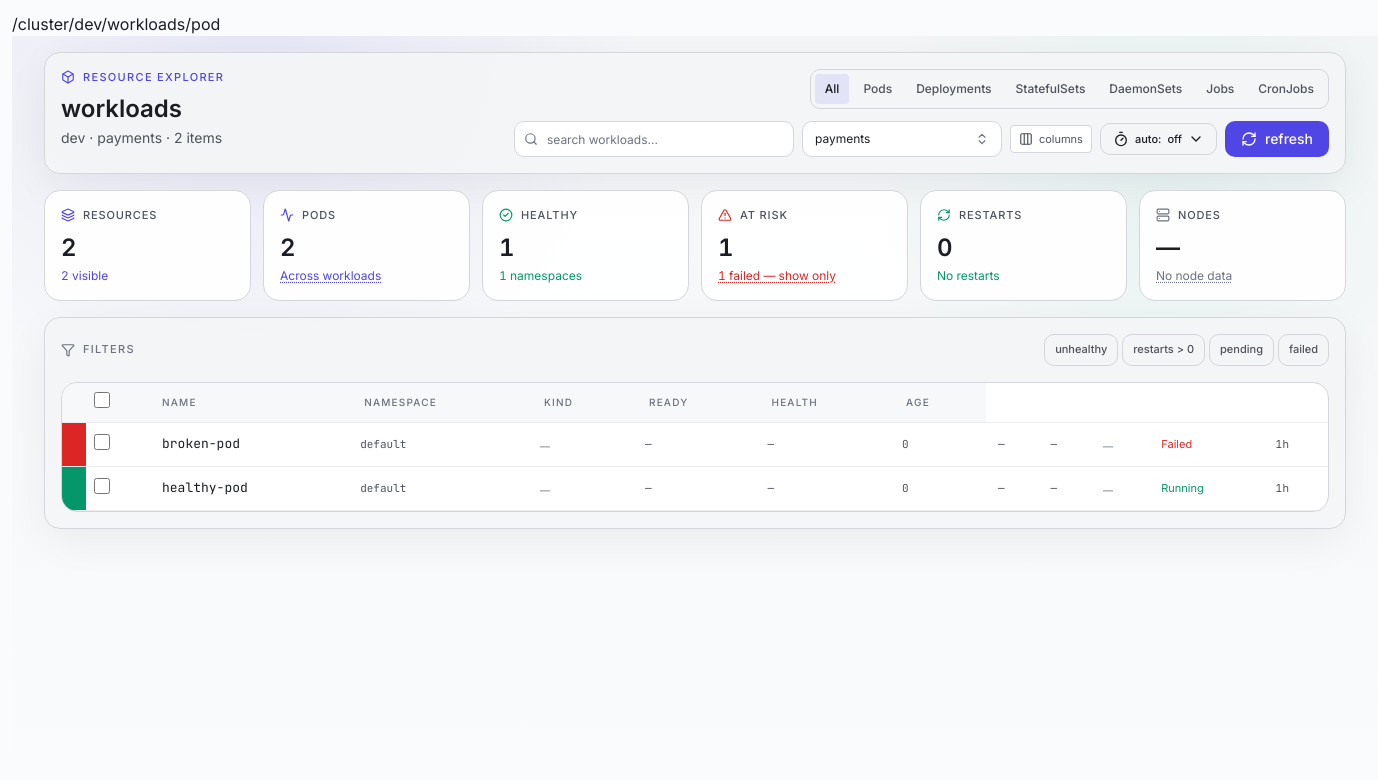
Test: WorkloadsView actionable stat cards › filters to unhealthy resources when the At Risk card is clicked
This screenshot has width=1378, height=780.
expect the text "healthy-pod" is shown: met, box [162,479,248,496]
Click the button "At Risk 1 1 failed — show only" at (804, 245), box [701,190,908,300]
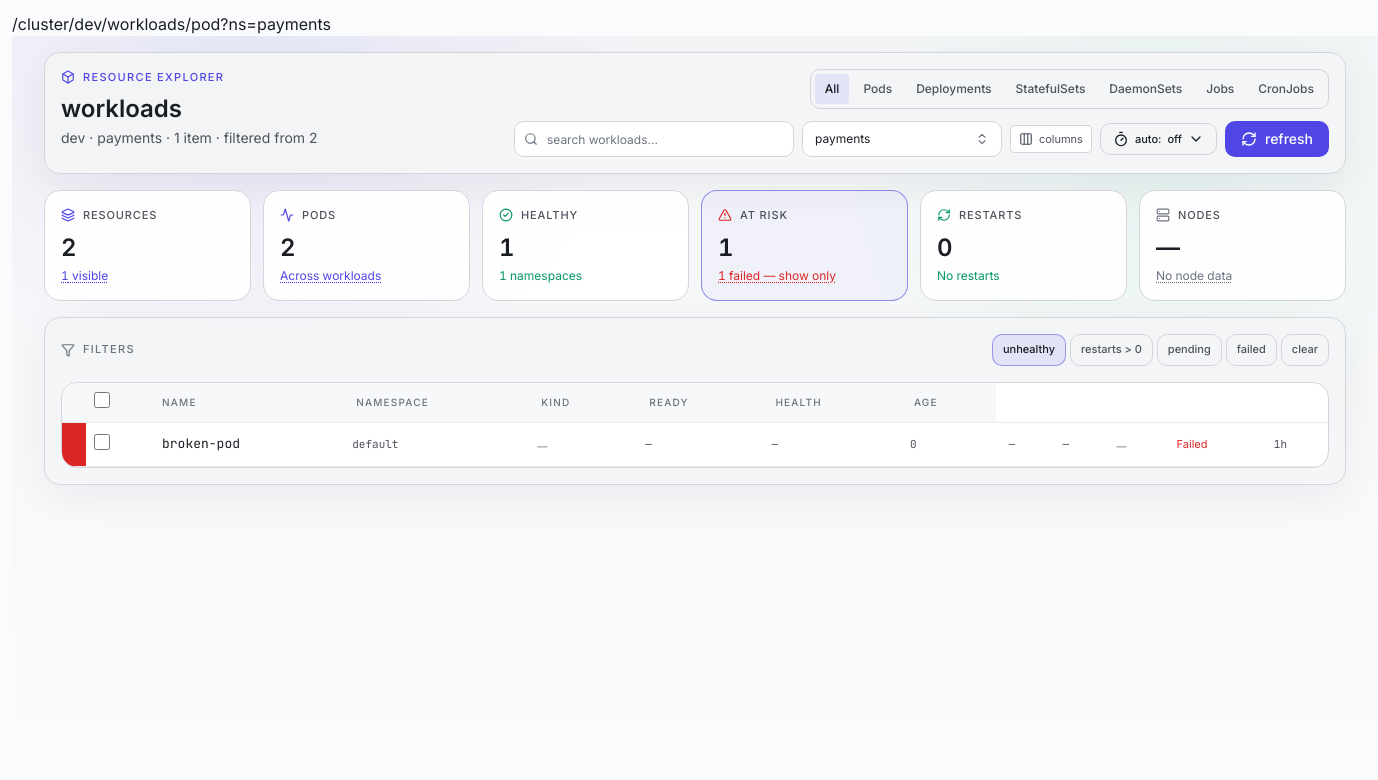
expect the text "broken-pod" is shown: met, box [162,435,240,452]
expect the text "healthy-pod" is gone: met
